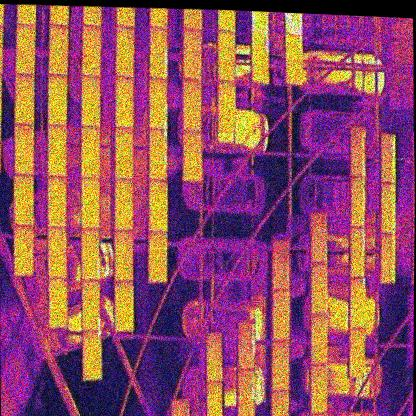Diode: (81, 279, 102, 331), (80, 228, 100, 280), (148, 128, 168, 179), (149, 77, 168, 130), (250, 32, 269, 84), (148, 26, 167, 78), (236, 368, 255, 416), (237, 320, 255, 370), (207, 330, 224, 382), (350, 276, 366, 327)
Hotspot: (81, 329, 103, 381)
Normal: (12, 223, 34, 277), (80, 176, 101, 229), (13, 173, 34, 226), (14, 122, 35, 175), (182, 26, 202, 81), (46, 225, 67, 277), (114, 127, 135, 179), (47, 174, 67, 228), (115, 25, 135, 78), (113, 279, 133, 331), (114, 178, 134, 230), (148, 179, 168, 231), (182, 130, 202, 182), (47, 123, 67, 175), (14, 71, 34, 123), (81, 124, 100, 178), (216, 27, 235, 81), (82, 23, 101, 77), (271, 287, 290, 340), (182, 78, 201, 131), (47, 73, 66, 126), (271, 338, 290, 391), (49, 276, 68, 328), (148, 230, 167, 282), (216, 80, 235, 132), (49, 24, 68, 76), (15, 22, 34, 74), (81, 75, 100, 126), (115, 76, 134, 127), (272, 238, 290, 291), (284, 32, 302, 85), (114, 229, 132, 281), (310, 211, 328, 263), (379, 132, 397, 183), (310, 312, 327, 364), (310, 262, 327, 314), (310, 362, 327, 414), (379, 182, 396, 232), (380, 232, 396, 285), (349, 327, 365, 377), (349, 177, 365, 226), (349, 127, 365, 175), (350, 227, 365, 276), (206, 381, 223, 416)
